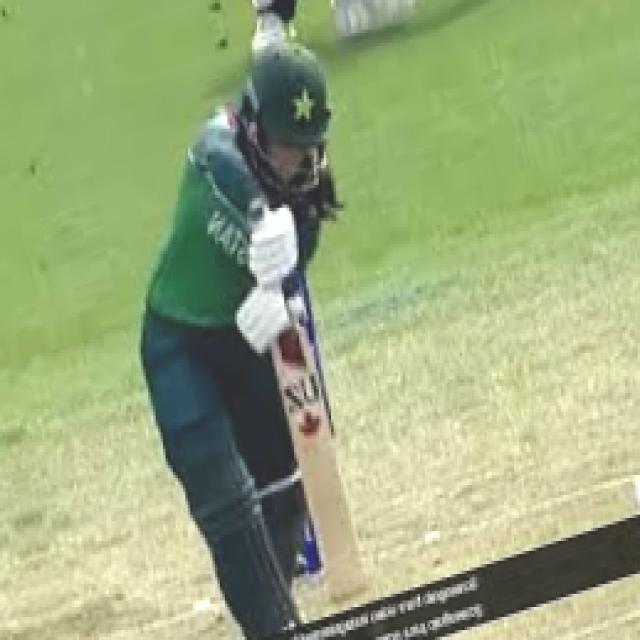toe: (304, 483, 376, 608)
